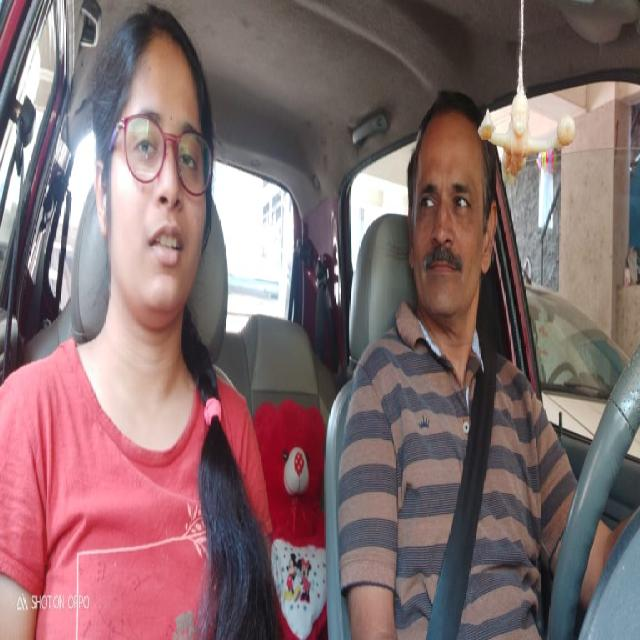LeftRight: (406, 102, 496, 311)
person: (98, 20, 216, 332)
